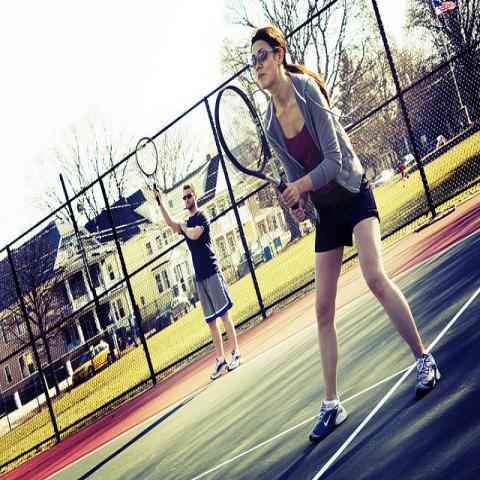car: (72, 344, 113, 383), (155, 295, 191, 332), (238, 245, 262, 276), (373, 169, 396, 189)
